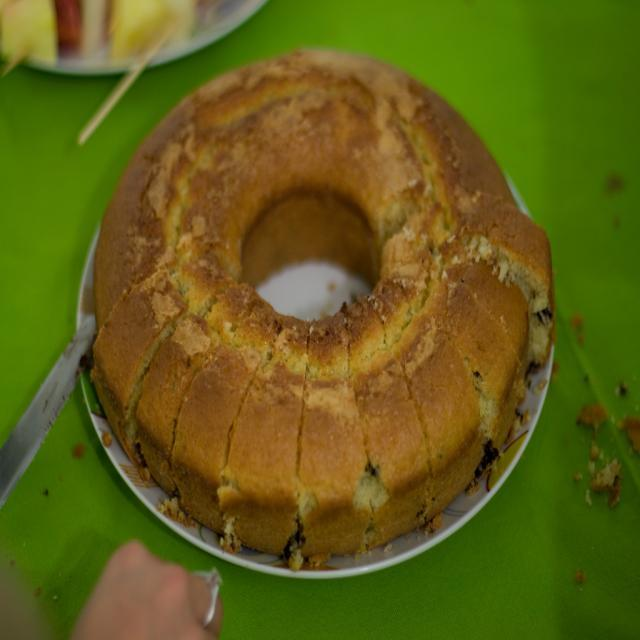Bread: (88, 41, 550, 592)
